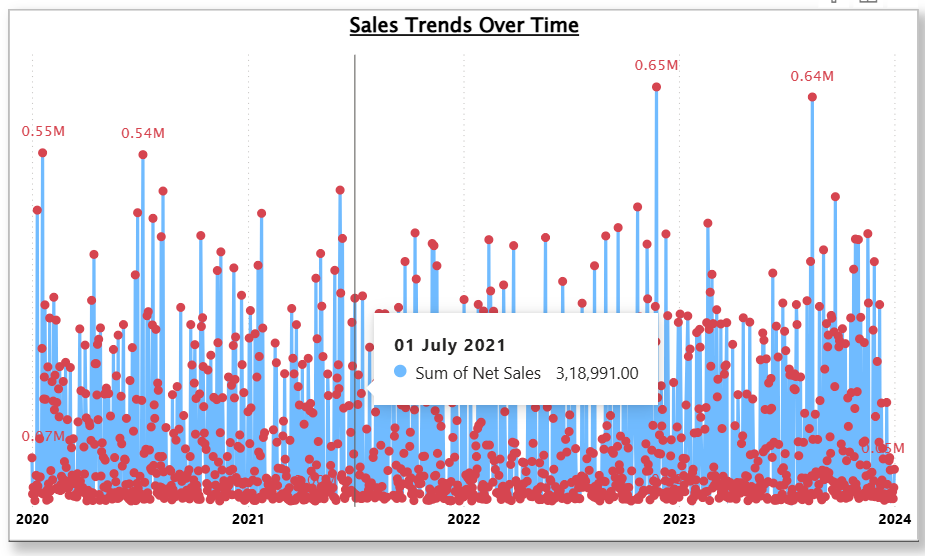

What the dashboard file says about the page in this screenshot:
{"tool":"powerbi","page":{"name":"Sales Trends Over Time","canvas":[1280,720],"ordinal":1},"visuals":[{"type":"lineChart","title":"Sales Trends Over Time","fields":{"Category":["Fact Table.Date (dd/mm/yyyy).Variation.Date Hierarchy.Year"],"Y":["Sum(Fact Table.Net Sales    )"]},"box":[255,112.5,846.2,495],"z":0}]}

Visuals, with their boxes on the page's 1280x720 design canvas (x1, y1, x2, y2). These are canvas units, not pixel positions in the 925x556 screenshot, which may show the page scaled, cropped or inside an application window:
"Sales Trends Over Time" lineChart: 255 112 1101 608
